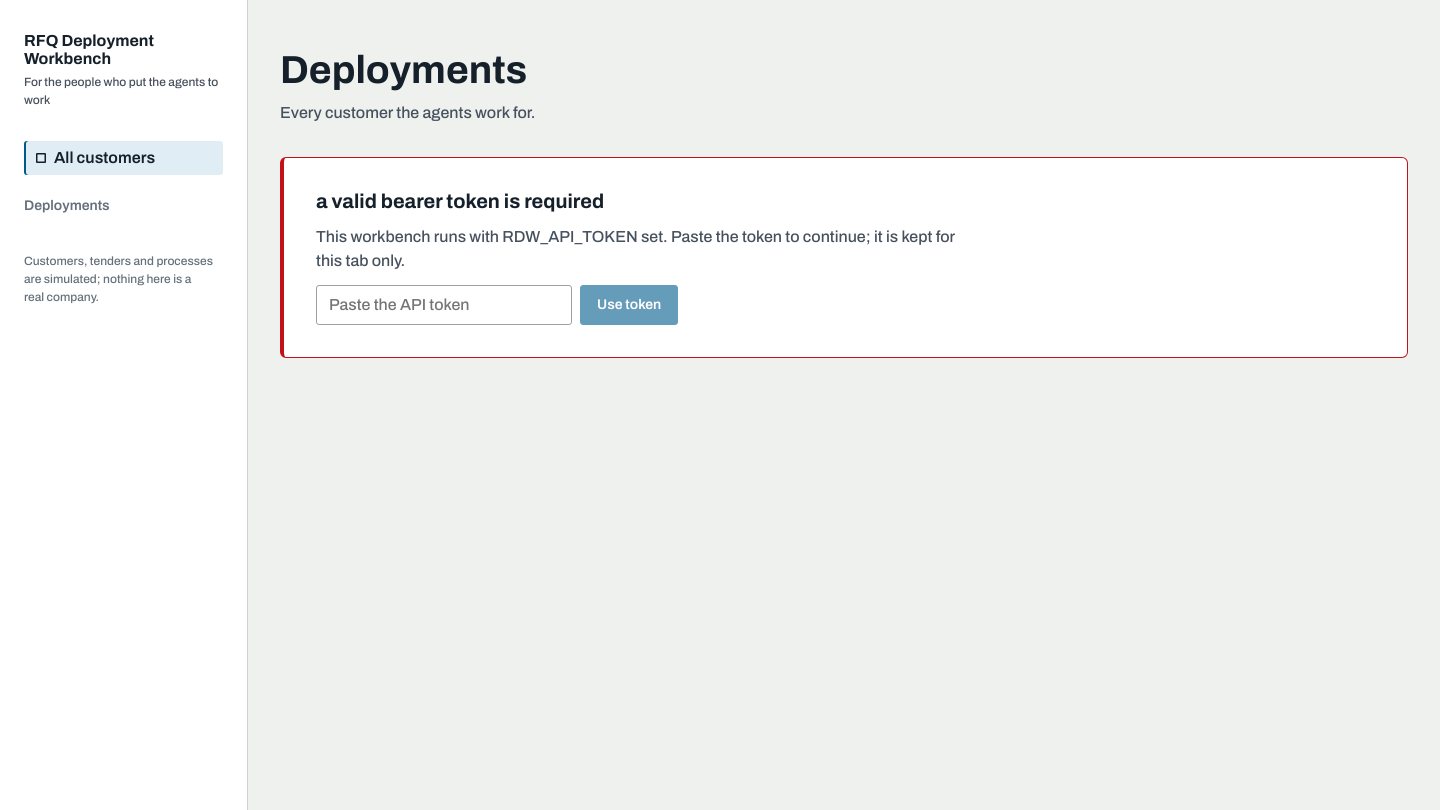
portfolio › asks for the API token when the API wants one and sends it from then on
The image size is (1440, 810).
Type "s3cret" into the password field labelled "API token".
click(444, 305); type("s3cret")  # box x1=316 y1=285 x2=572 y2=325
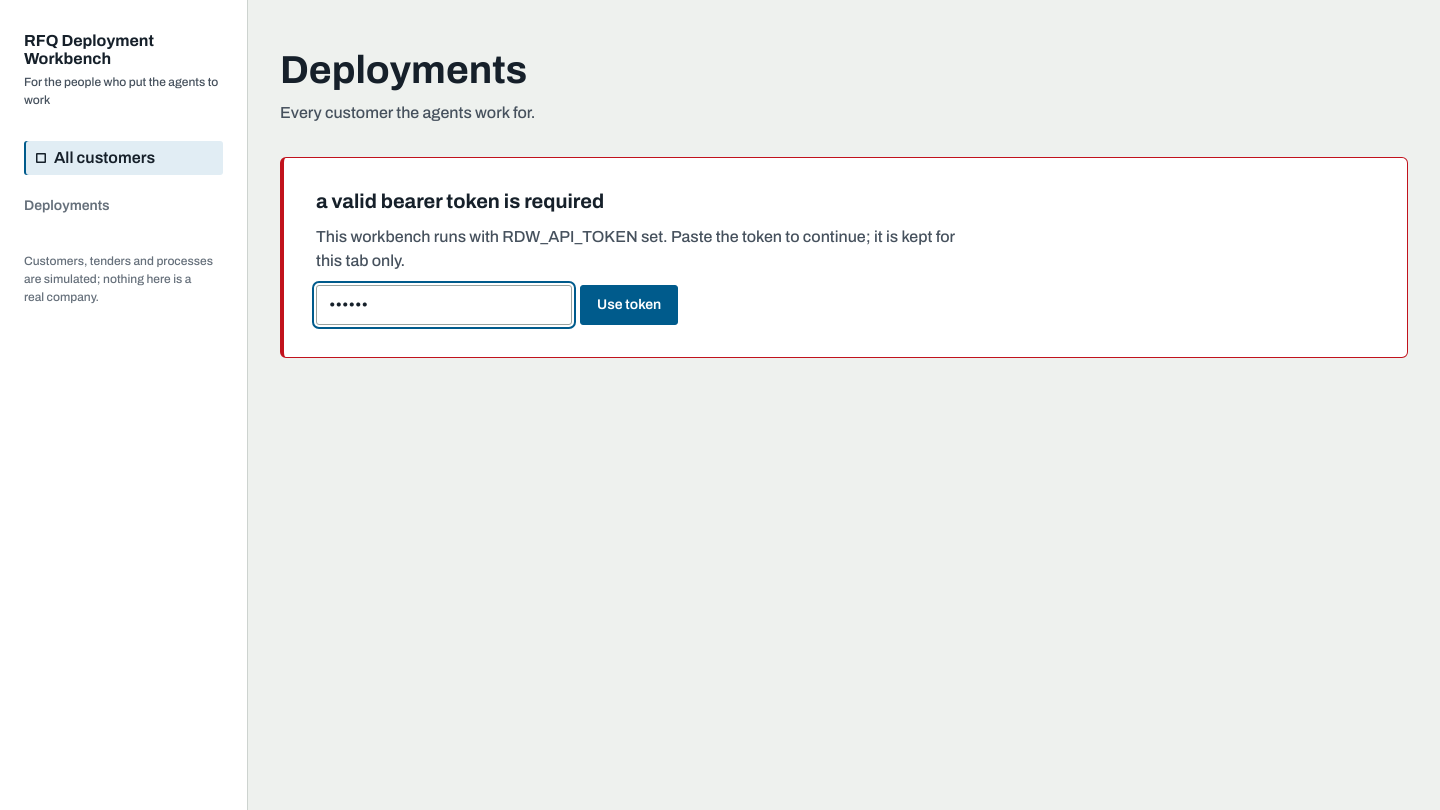
Click the button "Use token".
click(629, 305)  # box x1=580 y1=285 x2=678 y2=325
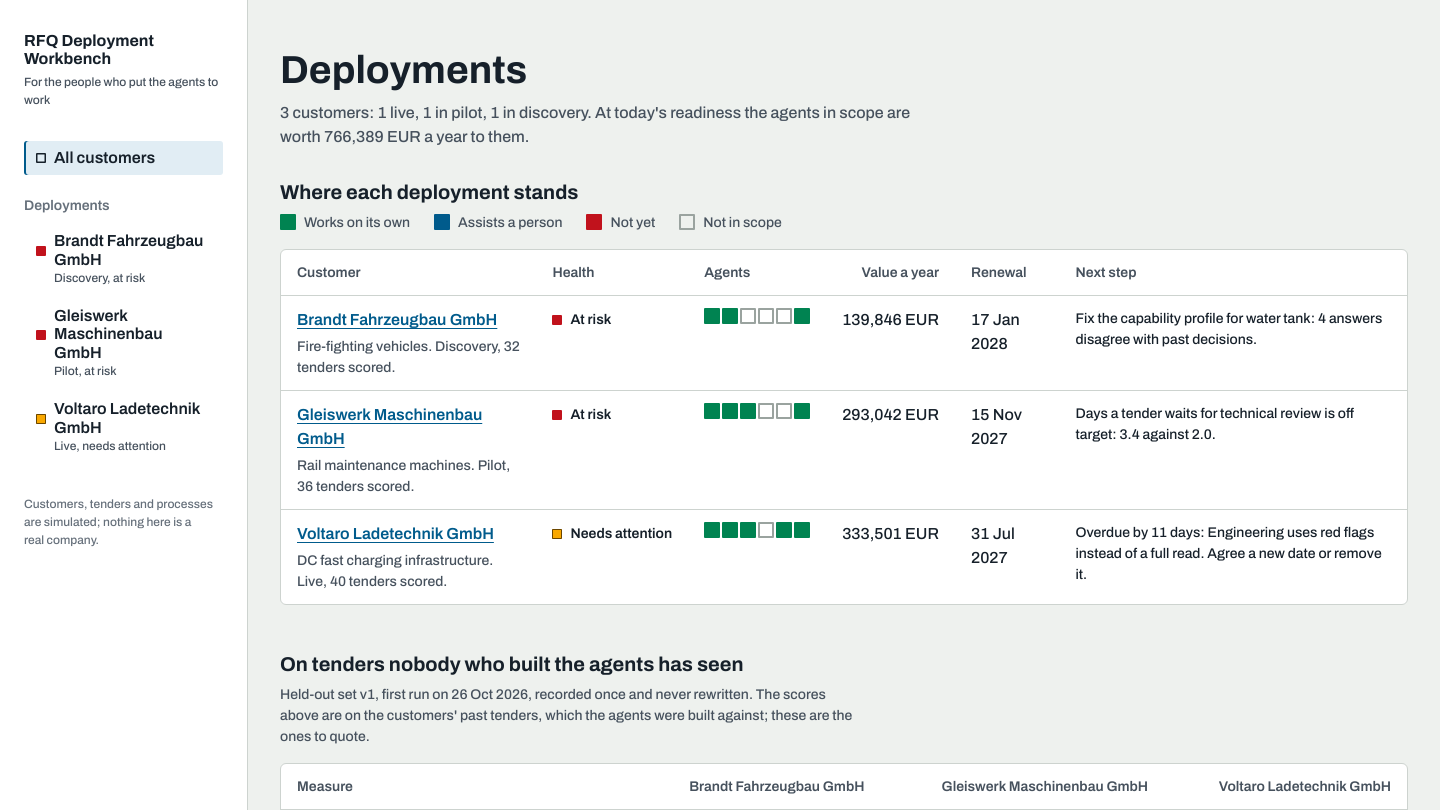
Check: the element named "Customers" is shown, box x1=280 y1=249 x2=1408 y2=605
